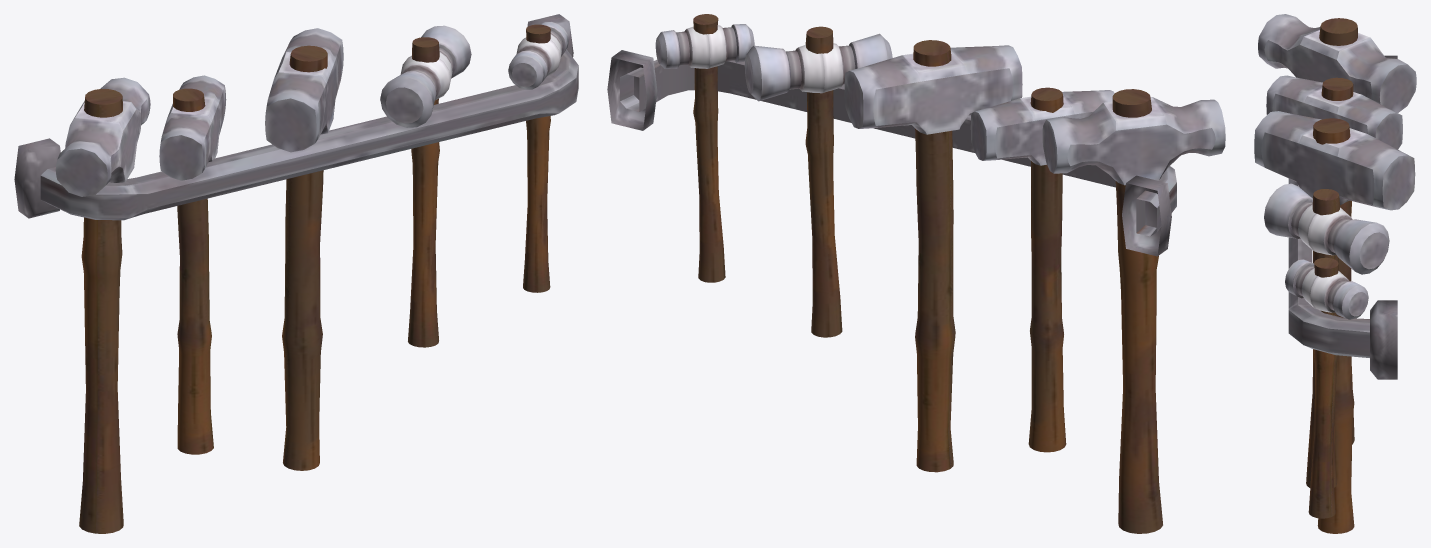
File: Hammer_Rack.gltf
3 renders of one model, left to right at view 1: azimuth 30°, elevation 25°; view 2: azimuth 150°, elevation 25°; view 3: azimuth 270°, elevation 25°, orthographic. The views are drawn at different scales.
Parts seen in each view (by area): view 1: Hammer_Rack; view 2: Hammer_Rack; view 3: Hammer_Rack.
Boxes of the visible parts, x1,y1,x2,y2 form: Hammer_Rack: (14,14,578,533); Hammer_Rack: (607,14,1225,533); Hammer_Rack: (1254,14,1416,533).
Bounding box in the file's own units: 0.7158 × 0.5184 × 0.1829.
Materials: 2 (2 with a texture image).
